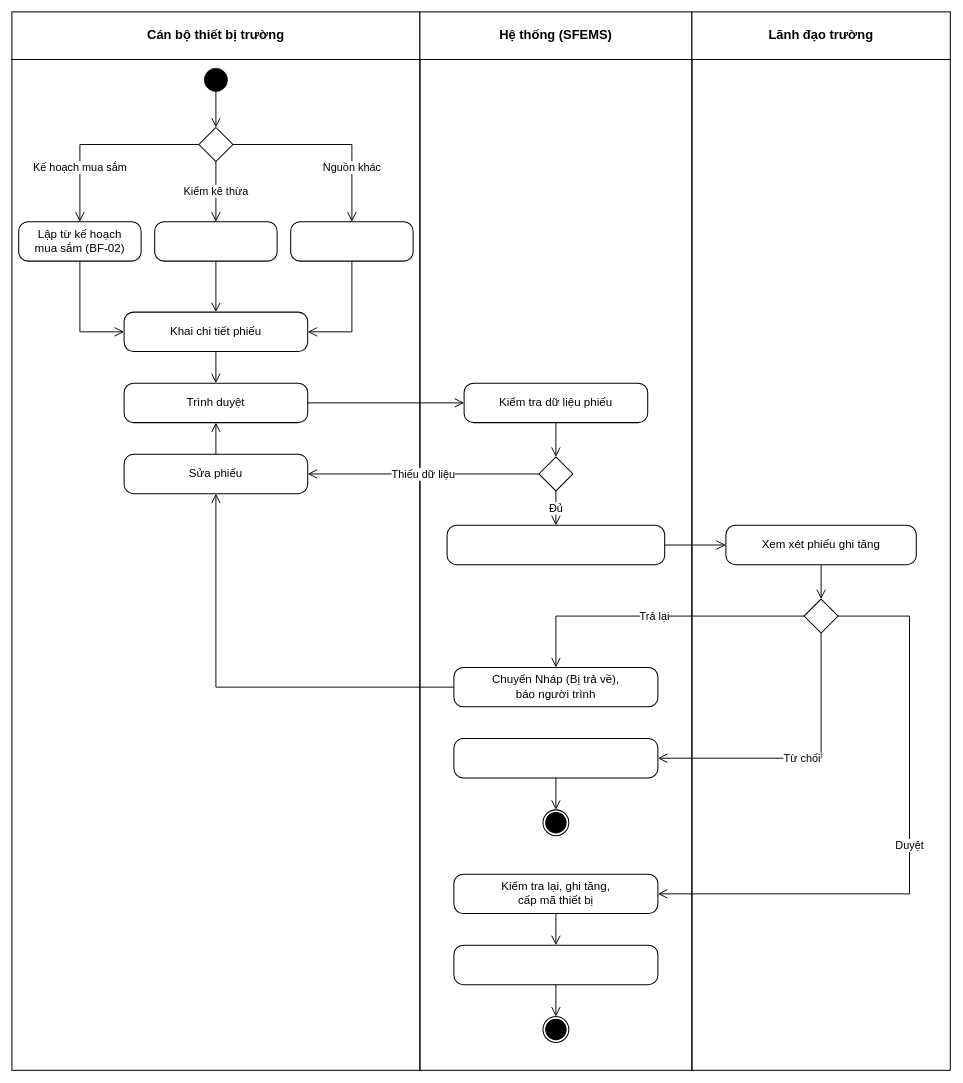
This 963x1083 diagram has some shape labels left out. The centre of each missing label's shape, as x and y in pixels:
"Chuyển Bị từ chối, báo người trình" belongs at point 555,758.
"Chuyển Hoàn tất, báo người trình" belongs at point 555,964.
"Chọn biên bản kiểm kê (BF-04)" belongs at point 215,241.
"Cấp số phiếu, chuyển Chờ duyệt, báo lãnh đạo trường" belongs at point 555,544.
"Lập phiếu nguồn khác" belongs at point 351,241.
